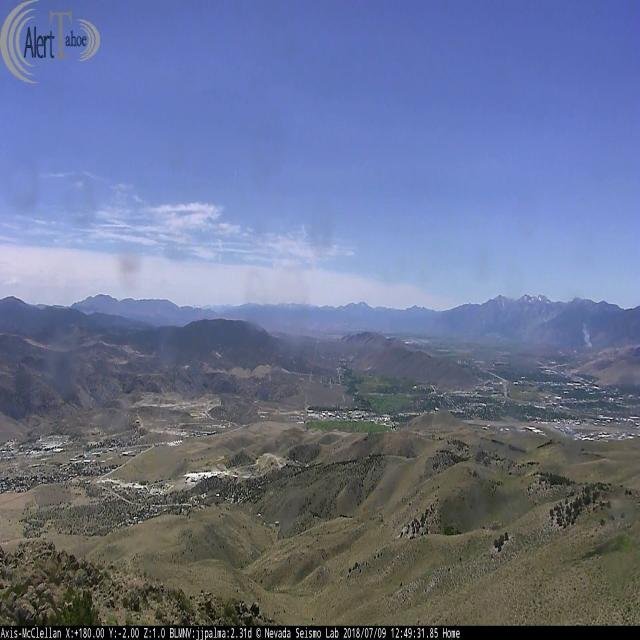smoke: (582, 324, 593, 347)
